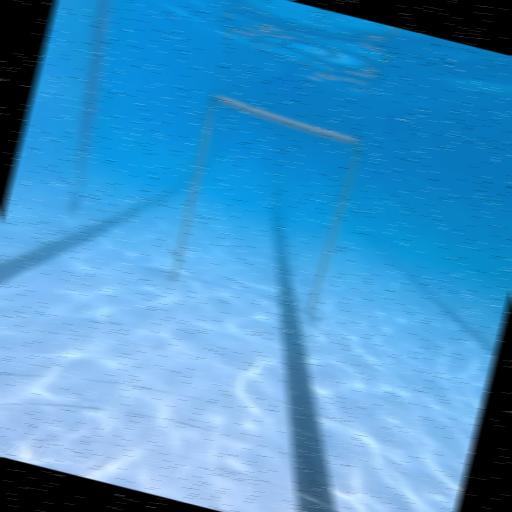gate: (162, 92, 368, 324)
